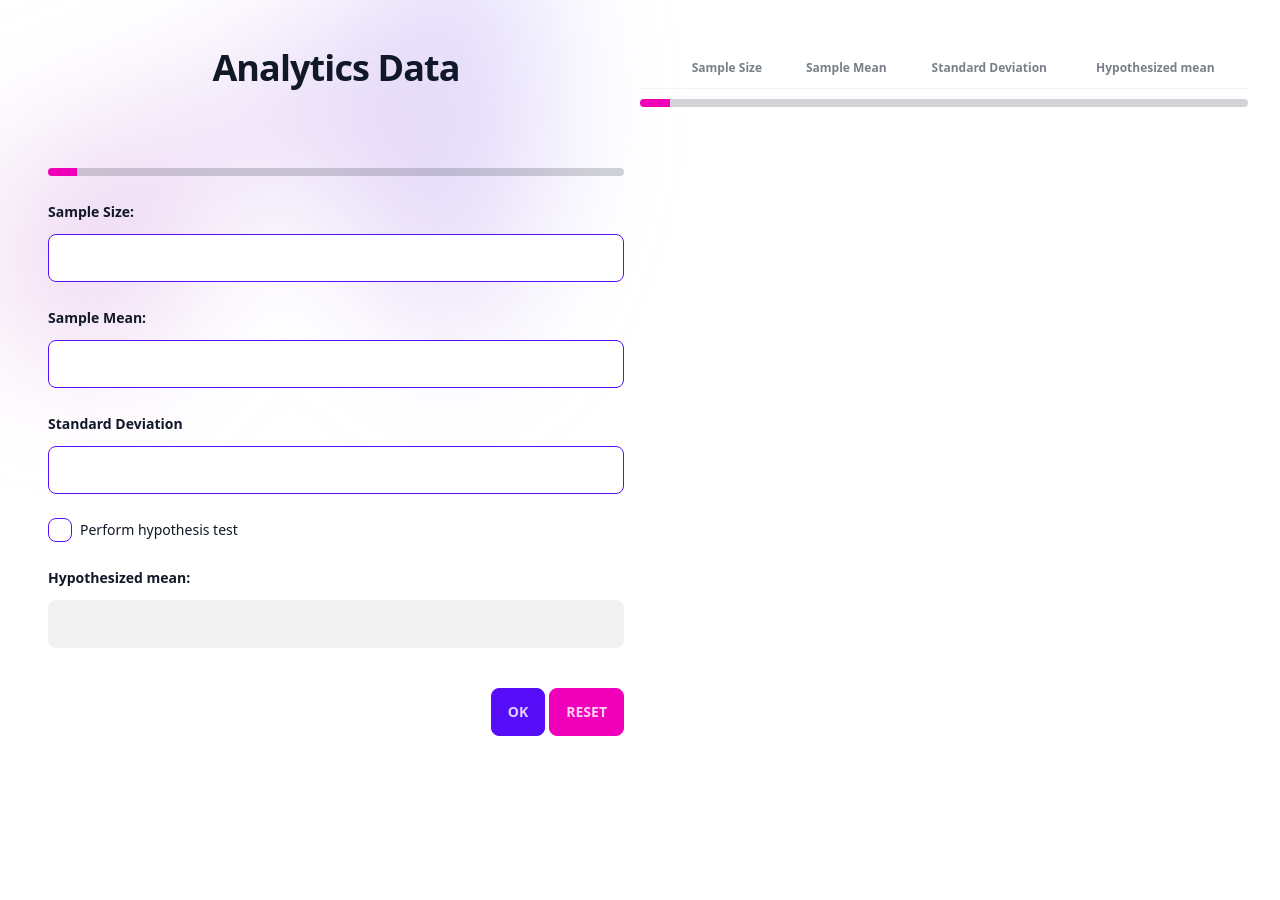
Scenario: Sample Size Field validation › Should display error when input is equal or less than 2
This screenshot has width=1280, height=900.
In the number field labelled "Sample Size:": (336, 258) [48,234,624,282], type "1"
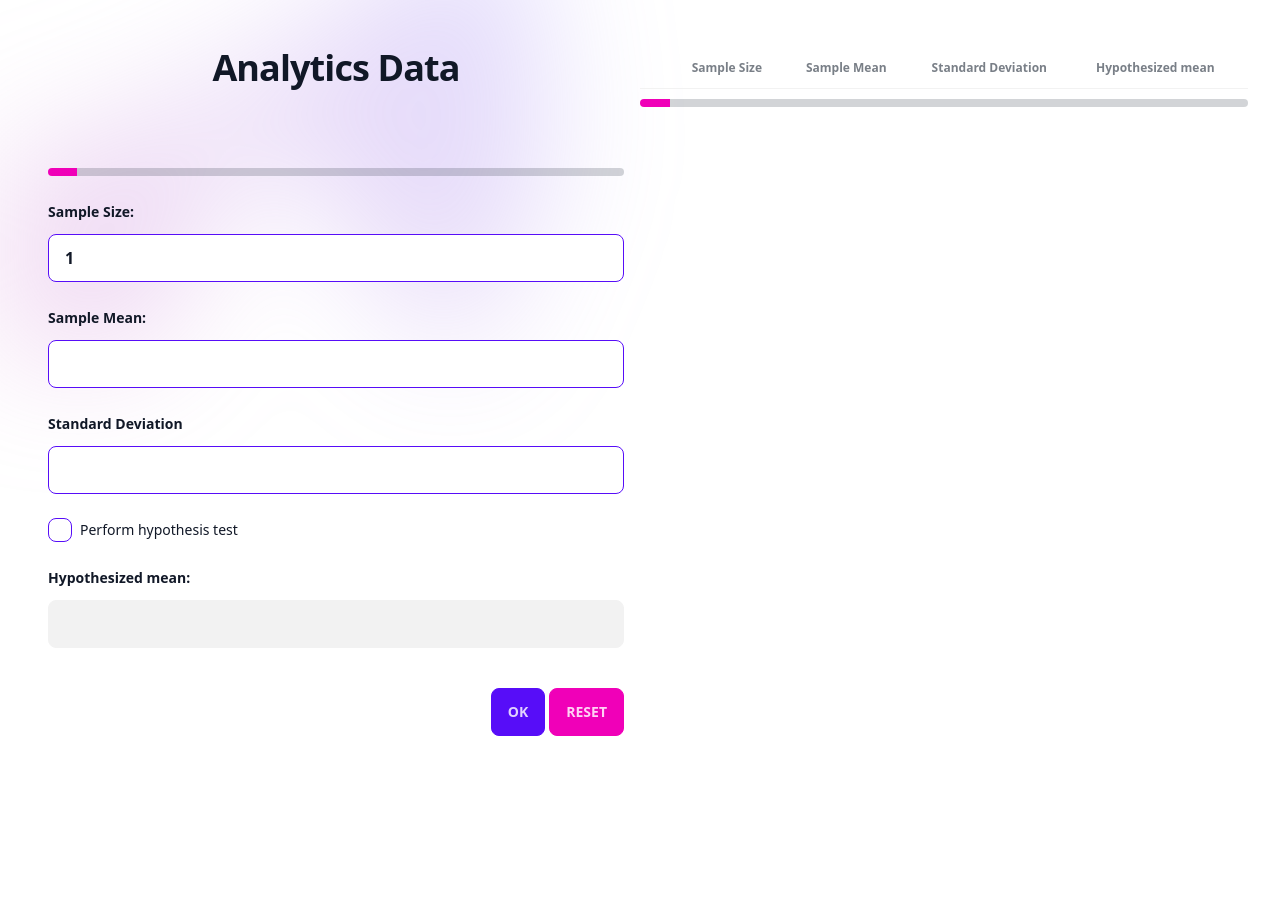
Click the button "Ok": click(518, 712) [491,688,545,736]
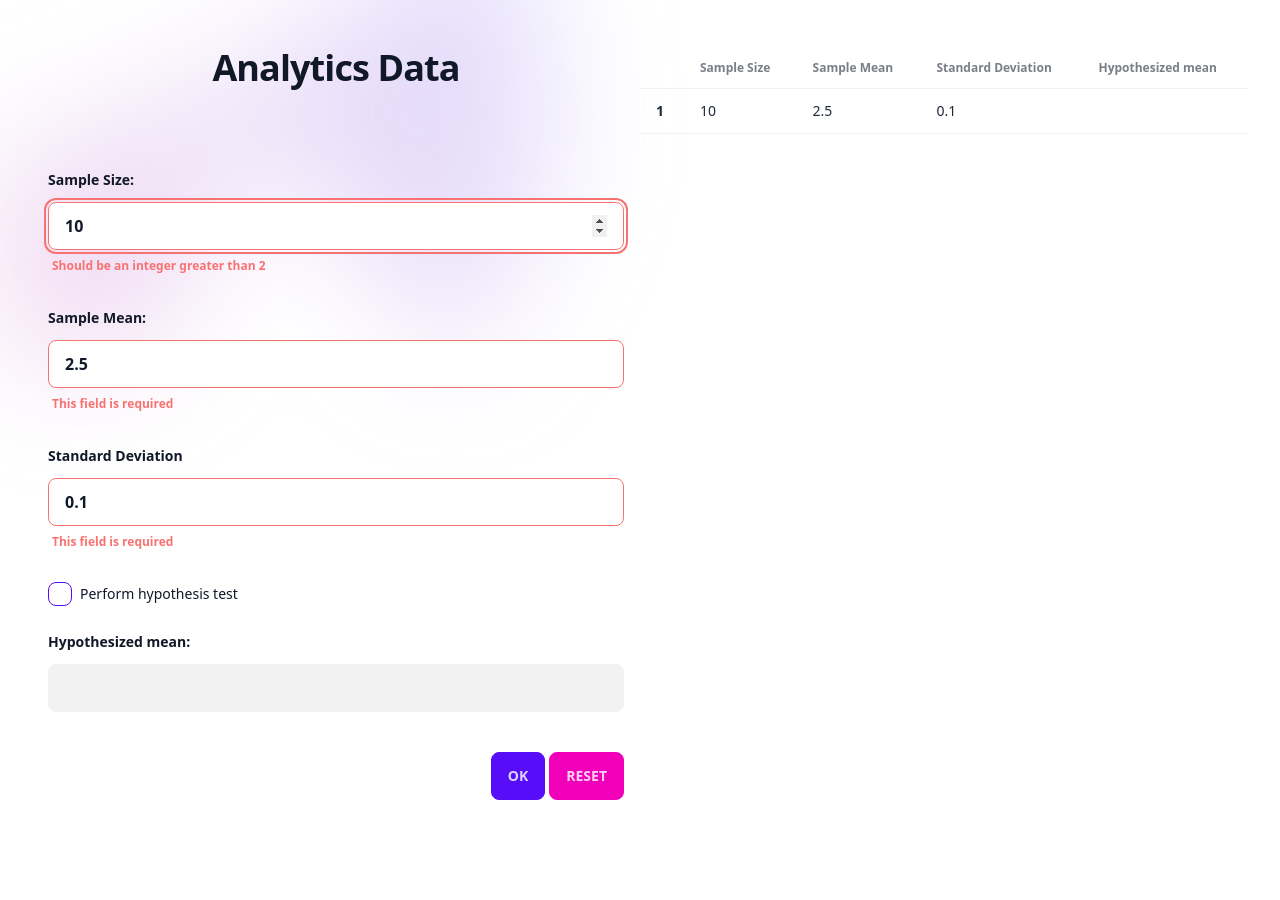
Check: the element with test id "sample-size-field" does not show "This field is required", box [48,168,624,282]
Check: the text "Should be an integer greater than 2" is shown, box [52,258,266,274]
